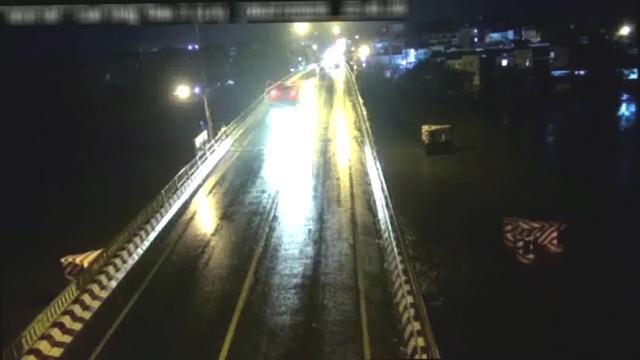Truck: (264, 81, 298, 106)
